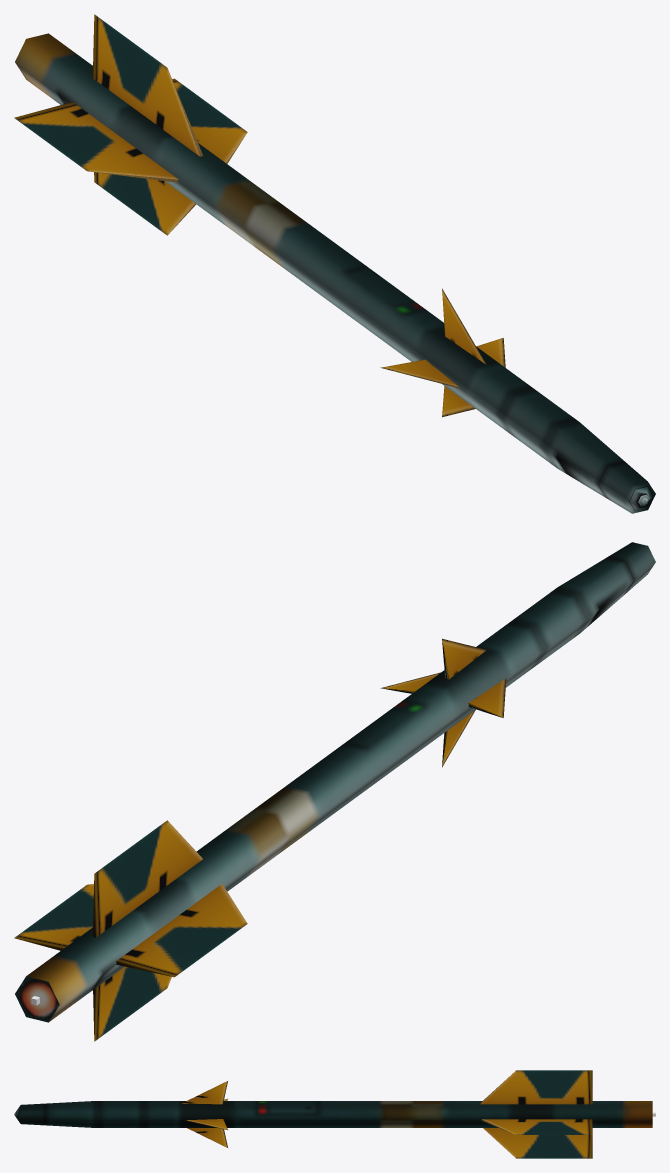
The model's file is mis09.obj.
3 renders of one model, top to bottom at view 1: azimuth 30°, elevation 25°; view 2: azimuth 150°, elevation 25°; view 3: azimuth 270°, elevation 25°, orthographic. The views are drawn at different scales.
Visible parts, largest first — view 1: frm-body, frm-rear_fin5, frm-rear_fin6, frm-rear_fin7, frm-rear_fin5_1, frm-frontfin4, frm-frontfin5; view 2: frm-body, frm-rear_fin5, frm-rear_fin6, frm-rear_fin7, frm-rear_fin5_1, frm-frontfin4, frm-frontfin5; view 3: frm-body, frm-rear_fin5, frm-rear_fin7, frm-rear_fin5_1, frm-frontfin4, frm-frontfin7, frm-frontfin4_1.
Boxes of the visible parts, bbox=[...] form: frm-body: bbox=[15, 33, 655, 513]; frm-rear_fin5: bbox=[92, 14, 202, 156]; frm-rear_fin6: bbox=[14, 102, 178, 182]; frm-rear_fin7: bbox=[94, 172, 196, 235]; frm-rear_fin5_1: bbox=[172, 78, 247, 163]; frm-frontfin4: bbox=[442, 288, 486, 364]; frm-frontfin5: bbox=[380, 359, 460, 388]; frm-body: bbox=[15, 542, 655, 1022]; frm-rear_fin5: bbox=[92, 820, 202, 937]; frm-rear_fin6: bbox=[116, 884, 247, 977]; frm-rear_fin7: bbox=[93, 966, 171, 1041]; frm-rear_fin5_1: bbox=[14, 884, 93, 950]; frm-frontfin4: bbox=[442, 638, 486, 679]; frm-frontfin5: bbox=[468, 678, 506, 717]; frm-body: bbox=[14, 1101, 652, 1127]; frm-rear_fin5: bbox=[480, 1070, 592, 1104]; frm-rear_fin7: bbox=[483, 1128, 592, 1158]; frm-rear_fin5_1: bbox=[481, 1119, 592, 1134]; frm-frontfin4: bbox=[182, 1081, 227, 1104]; frm-frontfin7: bbox=[187, 1128, 227, 1147]; frm-frontfin4_1: bbox=[185, 1119, 227, 1129].
Bounding box in the file's own units: 1.73 × 1.73 × 11.41.
